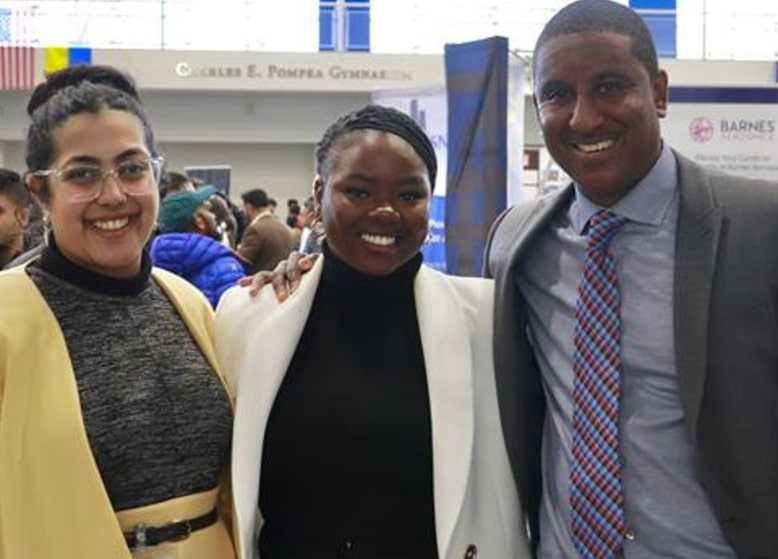Staff: (15, 16, 750, 457)
